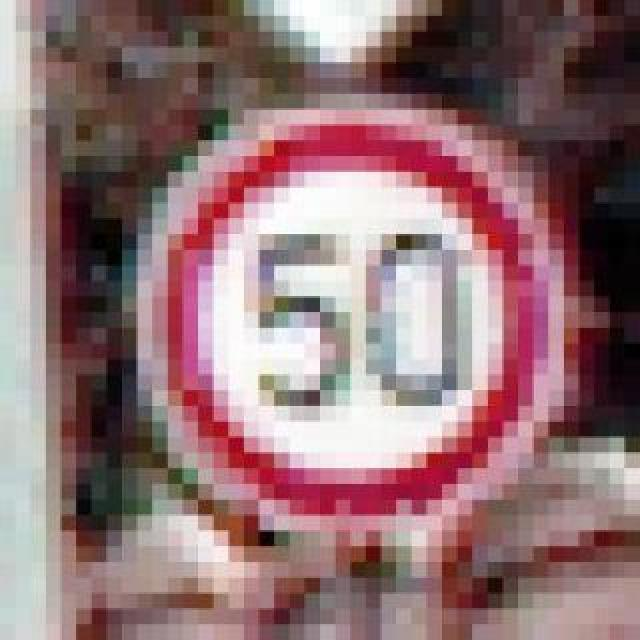50 kph: (122, 78, 548, 530)
